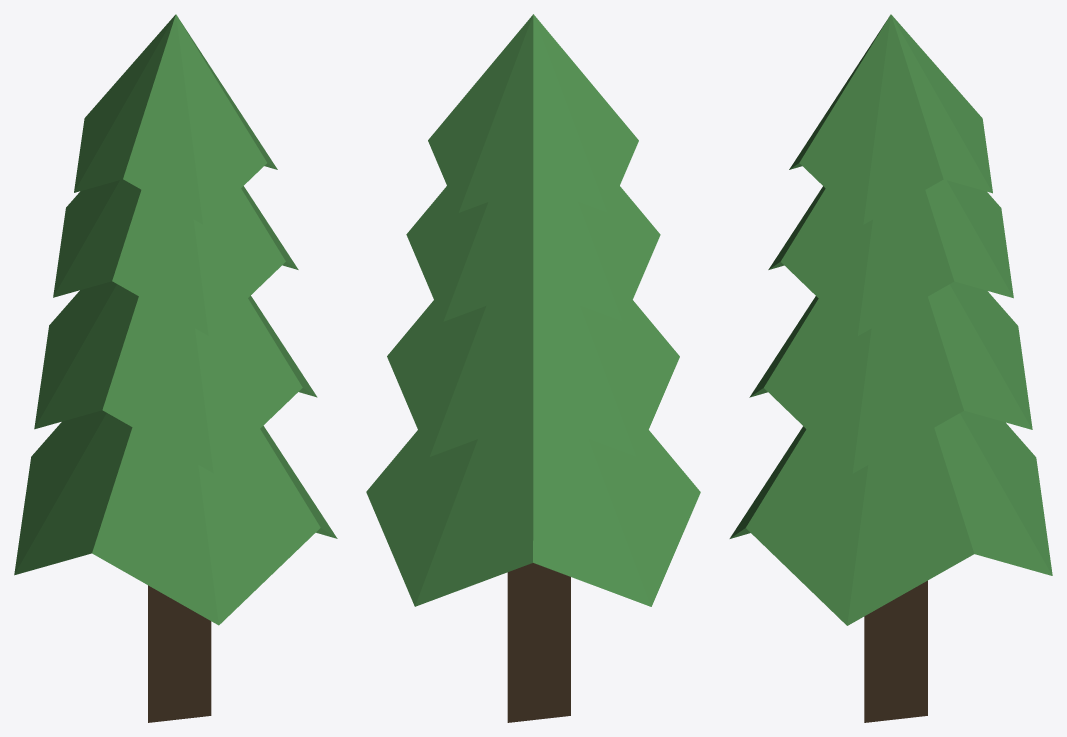
Rendered from fbChristmasTree4.fbx.
3 views of the same model, side by side, from view 1: azimuth 30°, elevation 25°; view 2: azimuth 150°, elevation 25°; view 3: azimuth 270°, elevation 25° (orthographic).
Visible parts, largest first — view 1: Cylinder.041; view 2: Cylinder.041; view 3: Cylinder.041.
Boxes of the visible parts, left/top/right/bottom form: Cylinder.041: left=14, top=14, right=337, bottom=722; Cylinder.041: left=366, top=14, right=700, bottom=722; Cylinder.041: left=729, top=14, right=1052, bottom=722.
Bounding box in the file's own units: 121 × 287 × 121.
